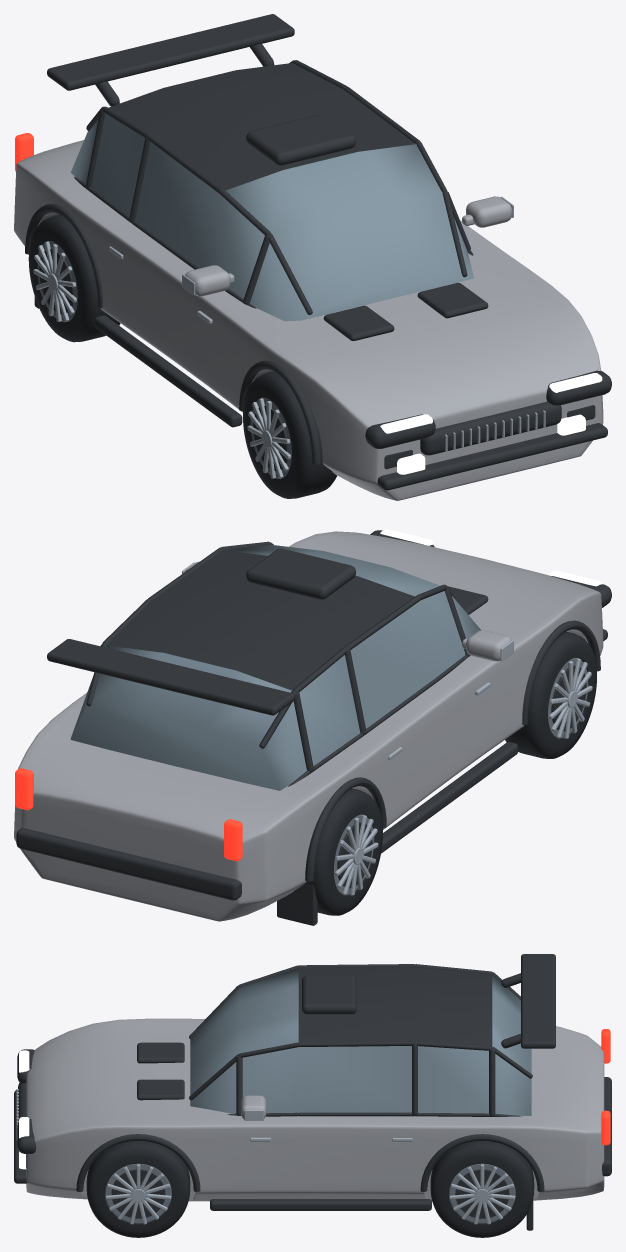
File: switchback.fbx
The picture shows the model from 3 angles, top to bottom: view 1: azimuth 30°, elevation 25°; view 2: azimuth 150°, elevation 25°; view 3: azimuth 270°, elevation 25°; orthographic projection. The views are drawn at different scales.
Parts seen in each view (by area): view 1: Sculpted exterior panels, Cabin glazing, Crowned roof panel, Rally hatch aerofoil, Performance tyre FL, Performance tyre RL, Rally roof scoop, Front lower splitter, Recessed radiator grille, Low sill molding, Alloy spoke face FL, Alloy spoke face RL (+8 smaller); view 2: Sculpted exterior panels, Cabin glazing, Crowned roof panel, Rally hatch aerofoil, Rear diffuser, Performance tyre FL, Performance tyre RL, Rally roof scoop, Low sill molding, Alloy spoke face FL, Alloy spoke face RL, Rolled fender lip.001 (+11 smaller); view 3: Sculpted exterior panels, Cabin glazing, Crowned roof panel, Performance tyre FR, Performance tyre RR, Rally hatch aerofoil, Low sill molding.001, Rally roof scoop, Alloy spoke face FR, Alloy spoke face RR, Rolled fender lip.002, Rolled fender lip.003 (+16 smaller).
Part boxes in pixels (bbox=[...]): Sculpted exterior panels: bbox=[14, 140, 603, 500]; Cabin glazing: bbox=[70, 113, 473, 321]; Crowned roof panel: bbox=[108, 63, 415, 190]; Rally hatch aerofoil: bbox=[47, 14, 294, 90]; Performance tyre FL: bbox=[243, 371, 336, 498]; Performance tyre RL: bbox=[28, 214, 120, 342]; Rally roof scoop: bbox=[246, 114, 355, 165]; Front lower splitter: bbox=[377, 423, 607, 490]; Recessed radiator grille: bbox=[420, 402, 561, 455]; Low sill molding: bbox=[94, 315, 242, 427]; Alloy spoke face FL: bbox=[247, 398, 291, 478]; Alloy spoke face RL: bbox=[33, 241, 76, 321]; Sculpted exterior panels: bbox=[14, 531, 603, 921]; Cabin glazing: bbox=[70, 545, 480, 790]; Crowned roof panel: bbox=[107, 550, 414, 690]; Rally hatch aerofoil: bbox=[47, 639, 294, 715]; Rear diffuser: bbox=[16, 827, 241, 900]; Performance tyre FL: bbox=[505, 631, 596, 758]; Performance tyre RL: bbox=[305, 788, 382, 915]; Rally roof scoop: bbox=[246, 548, 355, 599]; Low sill molding: bbox=[381, 742, 518, 853]; Alloy spoke face FL: bbox=[549, 658, 592, 738]; Alloy spoke face RL: bbox=[334, 815, 378, 895]; Rolled fender lip.001: bbox=[305, 777, 386, 881]; Sculpted exterior panels: bbox=[26, 1018, 604, 1201]; Cabin glazing: bbox=[190, 968, 531, 1115]; Crowned roof panel: bbox=[298, 967, 492, 1046]; Performance tyre FR: bbox=[86, 1141, 190, 1237]; Performance tyre RR: bbox=[430, 1141, 534, 1237]; Rally hatch aerofoil: bbox=[521, 954, 555, 1048]; Low sill molding.001: bbox=[210, 1199, 431, 1210]; Rally roof scoop: bbox=[302, 976, 356, 1014]; Alloy spoke face FR: bbox=[105, 1164, 171, 1224]; Alloy spoke face RR: bbox=[449, 1164, 515, 1224]; Rolled fender lip.002: bbox=[76, 1134, 200, 1191]; Rolled fender lip.003: bbox=[420, 1134, 544, 1191].
Bounding box in the file's own units: 2.12 × 1.52 × 4.26.
